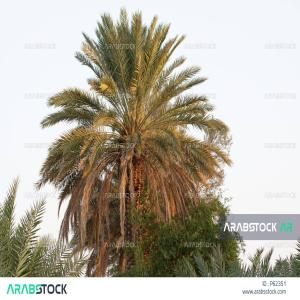palm tree: (34, 5, 234, 276)
